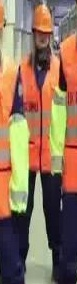boots: (7, 249, 26, 284), (0, 256, 13, 284)
gloves: (9, 190, 28, 213), (0, 190, 9, 230)
hard-hat: (31, 4, 53, 32)
mask: (65, 124, 77, 151)
ppe-suit: (45, 97, 77, 284)
vest: (0, 0, 38, 186)
